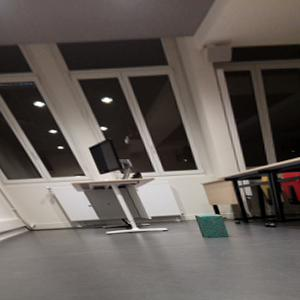small: (195, 213, 230, 239)
